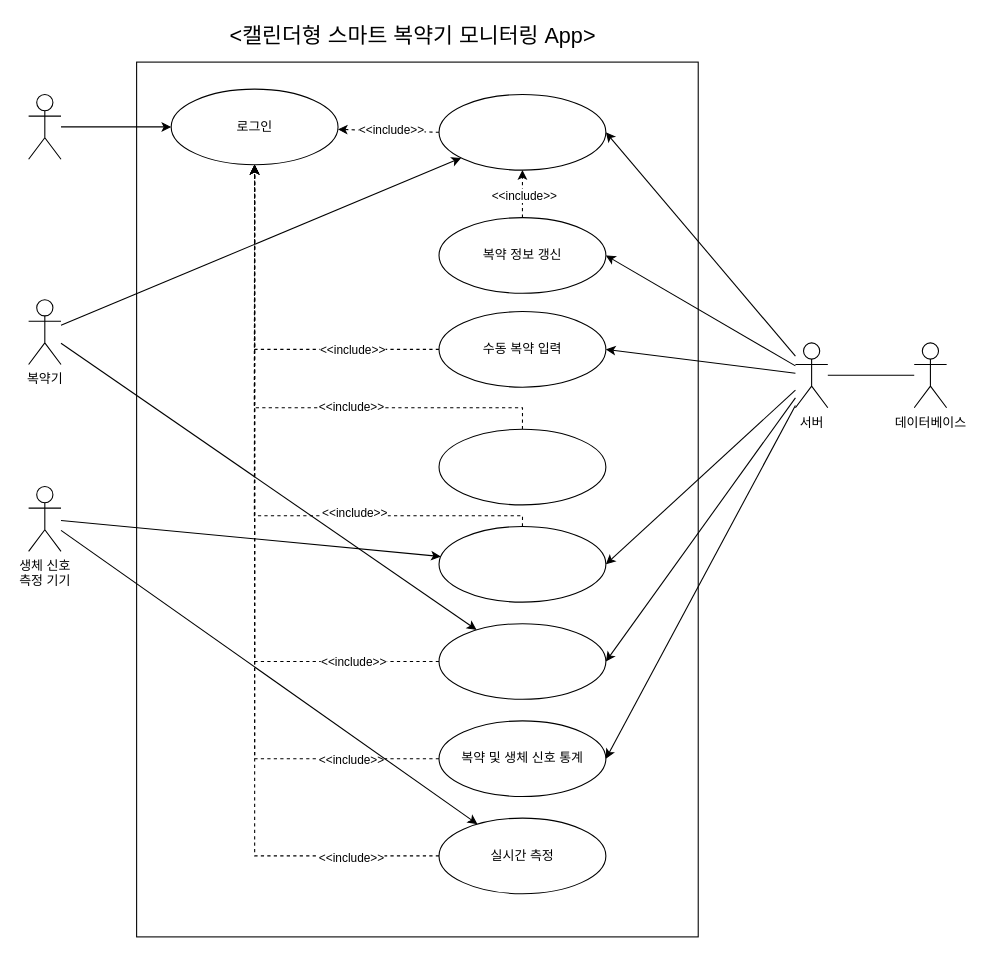
Some shapes in this 984 by 956 pixel diagram are drawn without their labels. Each missing label, with the centre of its shape:
"복약 상태 모니터링" goes at point (522, 131).
"복약 알림 팝업 및 지연" goes at point (522, 466).
"복약기 설정 변경" goes at point (522, 661).
"사용자" goes at point (44, 126).
"생체 신호 모니터링" goes at point (522, 563).
